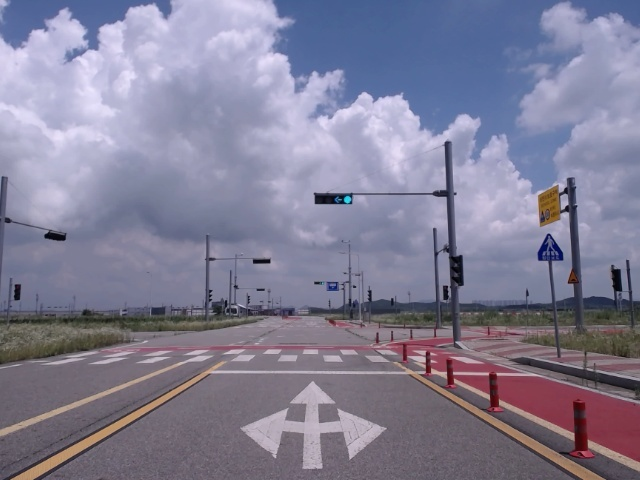all_green_4: (316, 192, 352, 207)
